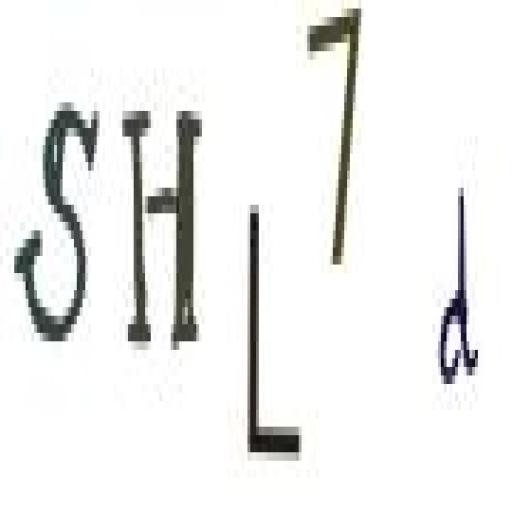7: (303, 6, 366, 278)
H: (120, 88, 204, 373)
L: (243, 187, 311, 494)
d: (432, 175, 480, 410)
s: (12, 81, 103, 364)
